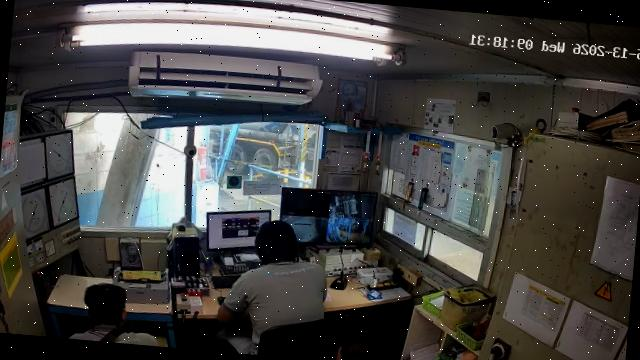Head: (255, 220, 297, 265), (85, 284, 126, 327)
People: (212, 221, 327, 357), (69, 283, 158, 345)
